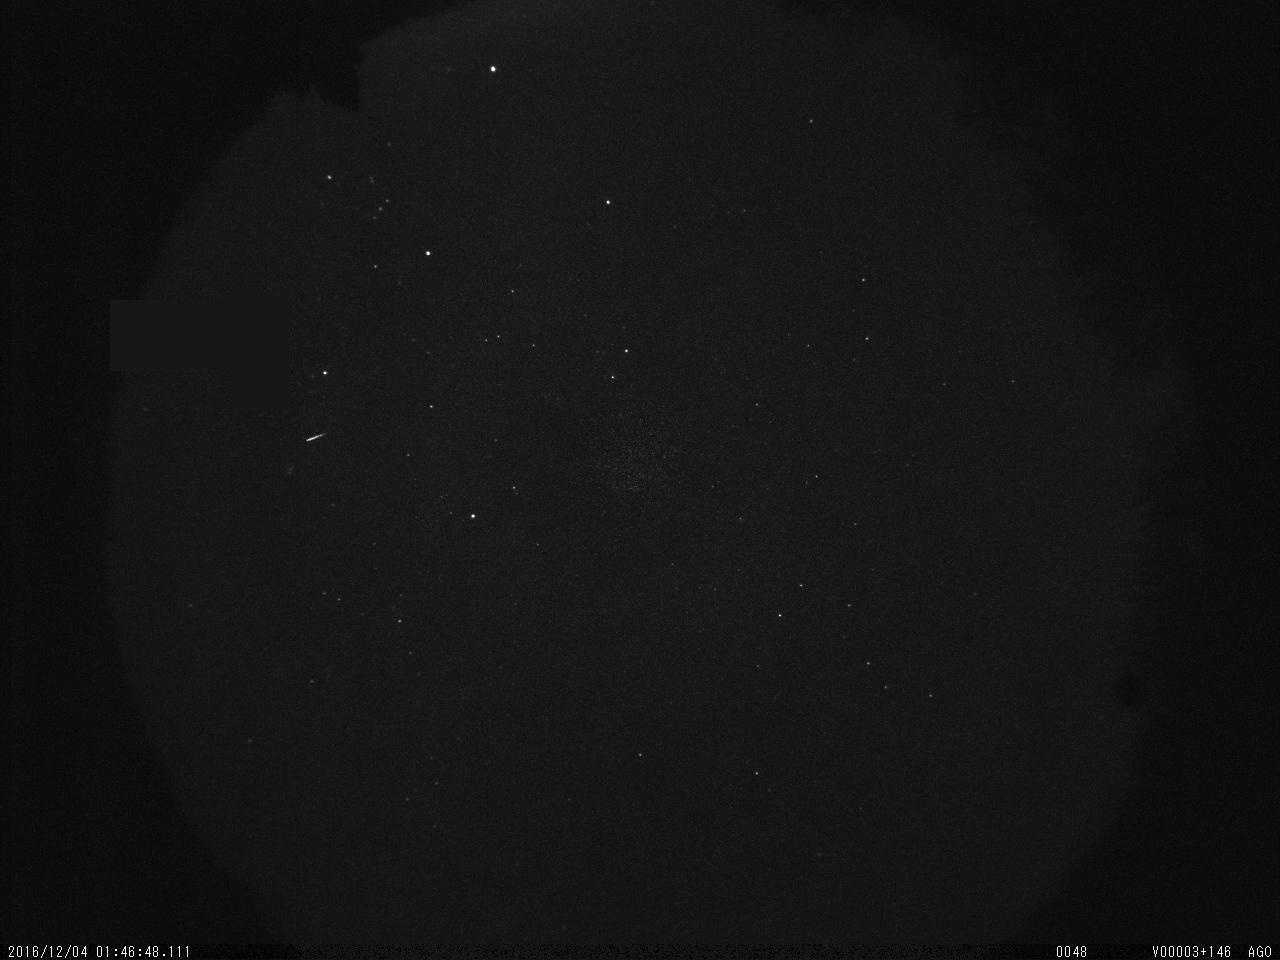Meteor: (303, 430, 326, 443)
